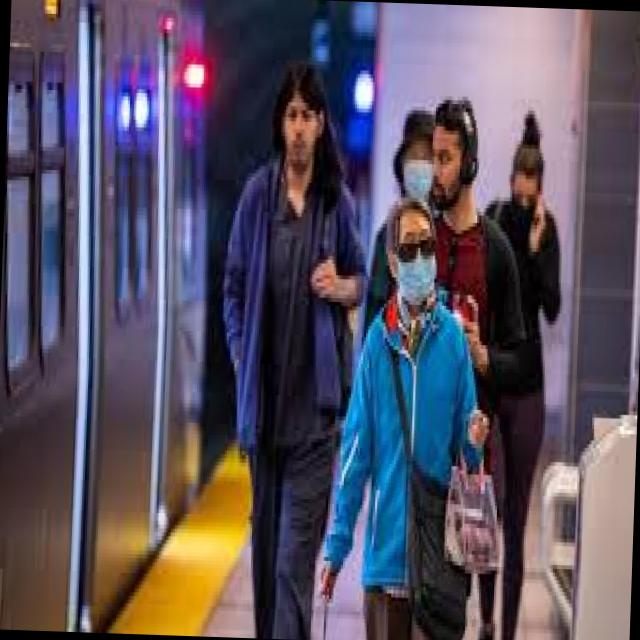Jacket: (323, 294, 489, 596), (210, 146, 362, 470)
